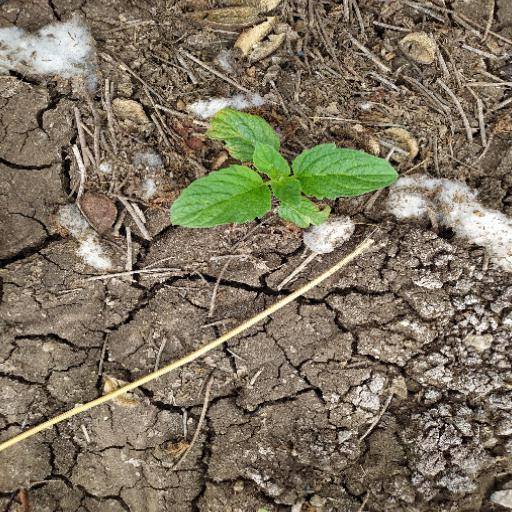crop: (161, 100, 401, 250)
